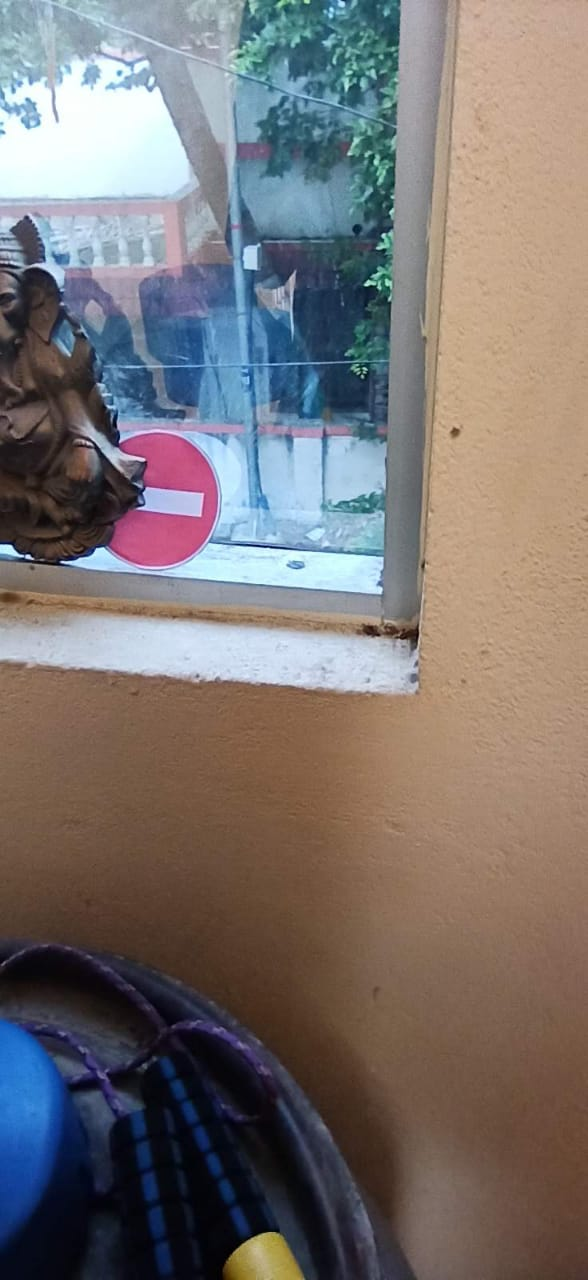NO ENTRY: (69, 417, 250, 563)
